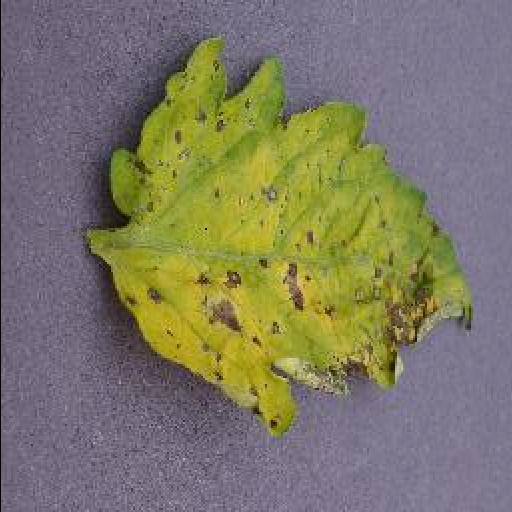disease_tomato: (89, 38, 475, 442)
